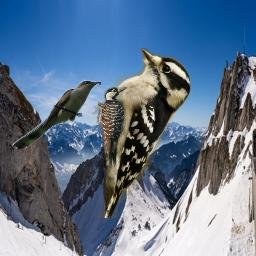Cuckoo: (12, 79, 101, 149)
Woodpecker: (98, 48, 191, 218), (91, 87, 128, 172)
